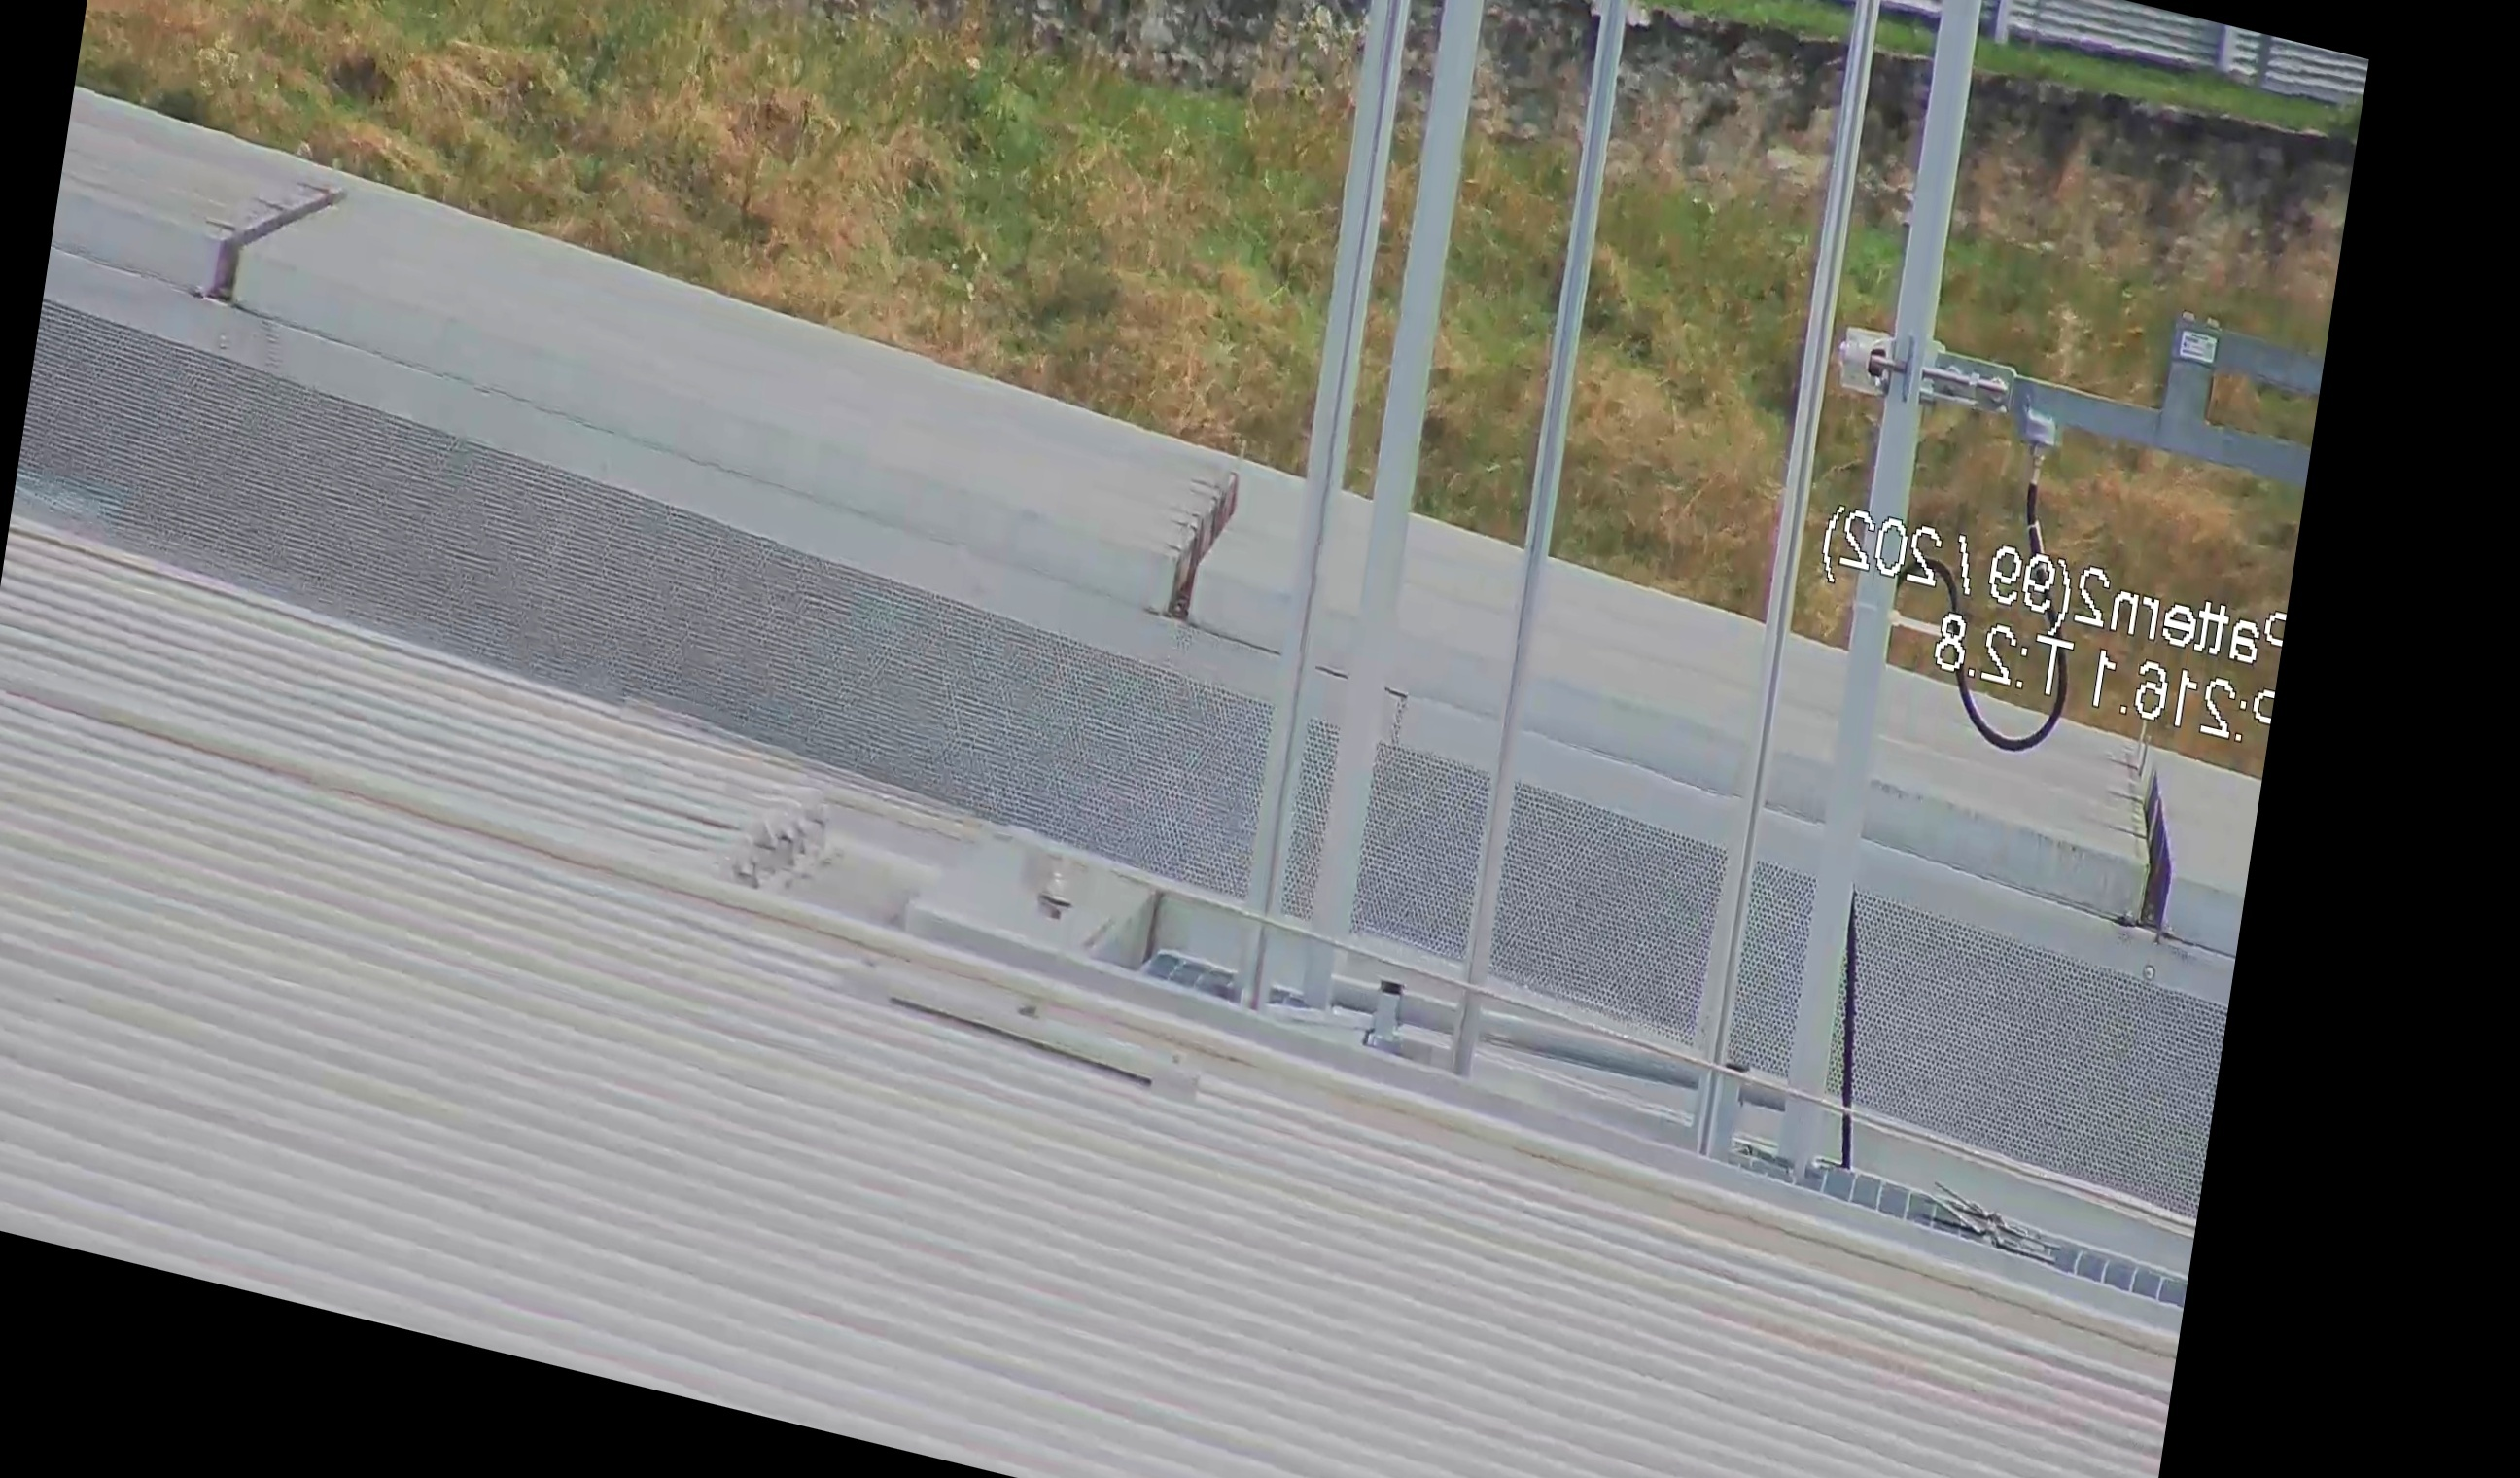Other: (1143, 433, 1256, 642)
